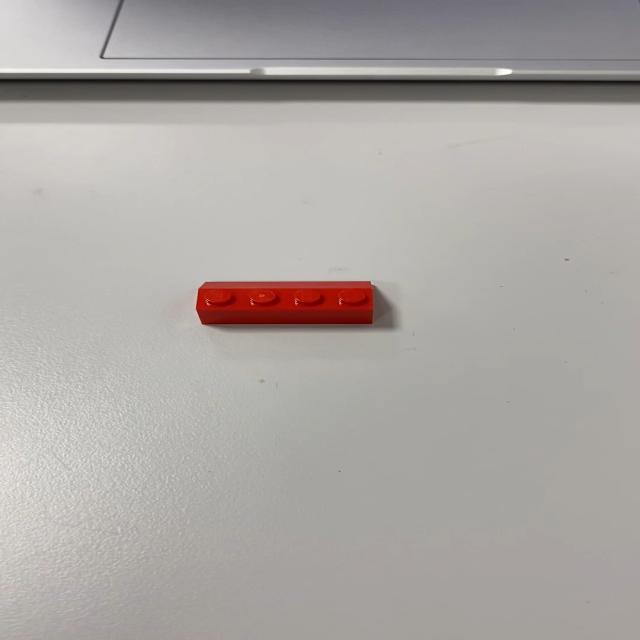P4x2x1: (194, 280, 375, 325)
